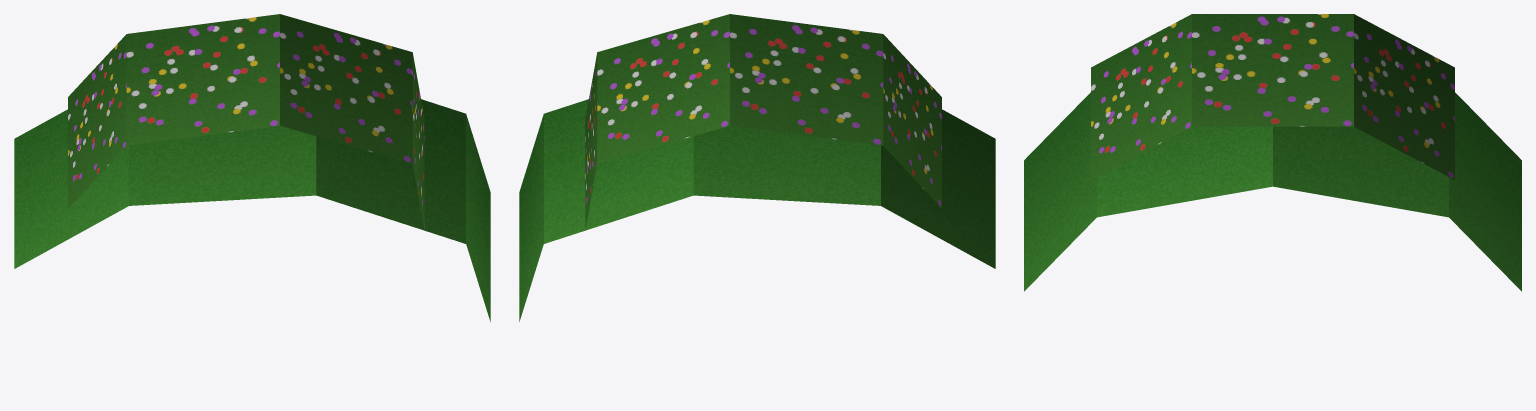
The model's file is bush_flower_cluster.gltf.
3 renders of one model, left to right at view 1: azimuth 30°, elevation 25°; view 2: azimuth 150°, elevation 25°; view 3: azimuth 270°, elevation 25°, orthographic.
Parts seen in each view (by area): view 1: bush_flower_cluster; view 2: bush_flower_cluster; view 3: bush_flower_cluster.
Part boxes in pixels (x1=…): bush_flower_cluster: x1=14, y1=14, x2=490, y2=321; bush_flower_cluster: x1=519, y1=14, x2=995, y2=321; bush_flower_cluster: x1=1024, y1=14, x2=1521, y2=291.
Size of the model in its own units: 2.4 by 1.1 by 2.4.
Materials: 1 (1 with a texture image).
